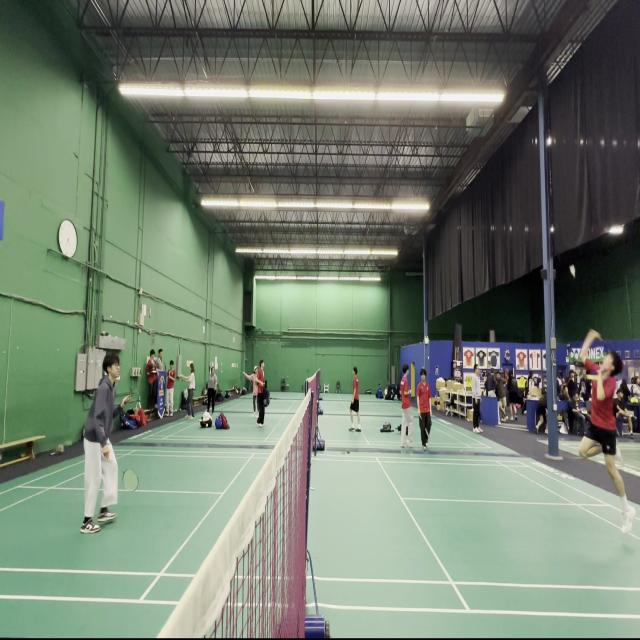shuttlecock: (568, 264, 578, 278)
